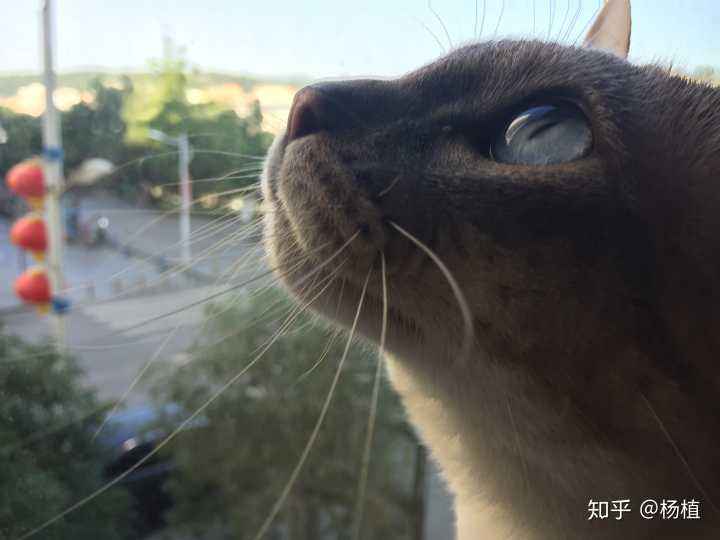cat: (257, 4, 720, 528)
